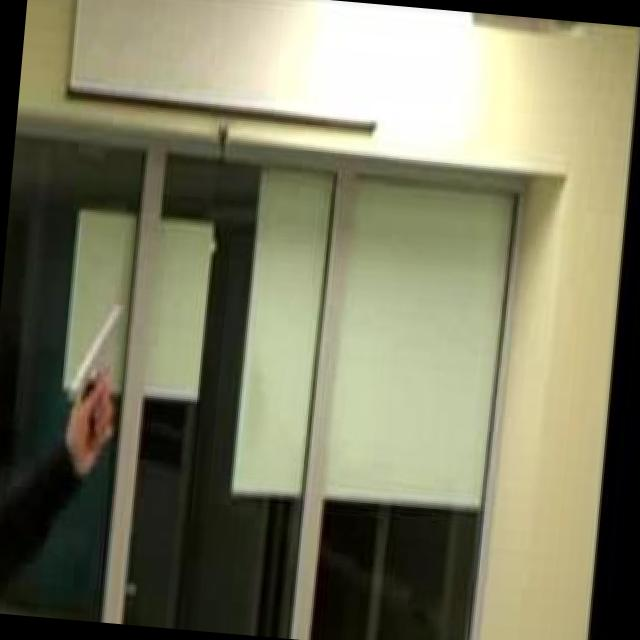Guns: (48, 286, 134, 454)
